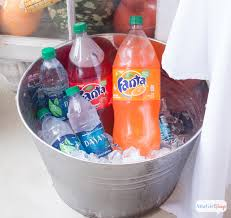fanta: (113, 18, 161, 146)
